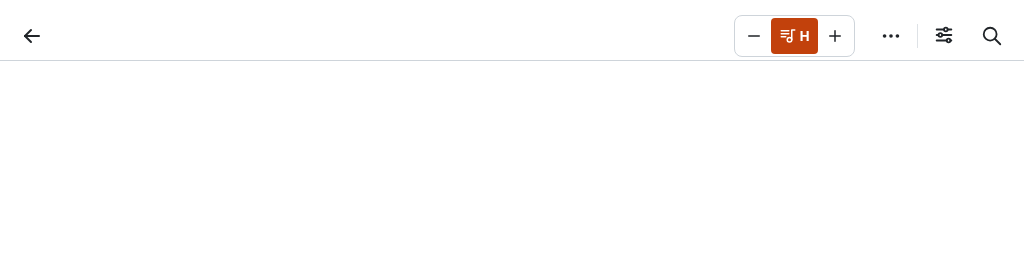
Test: SongToolbar: a key per playlist (D131) › starts from the playlist’s key: shown plainly, and the way back goes to it
Expected: the button named "H: Zpět na G" is shown, [771,18,818,54]
Click the button named "Další možnosti": (891, 36) [869,14,913,58]
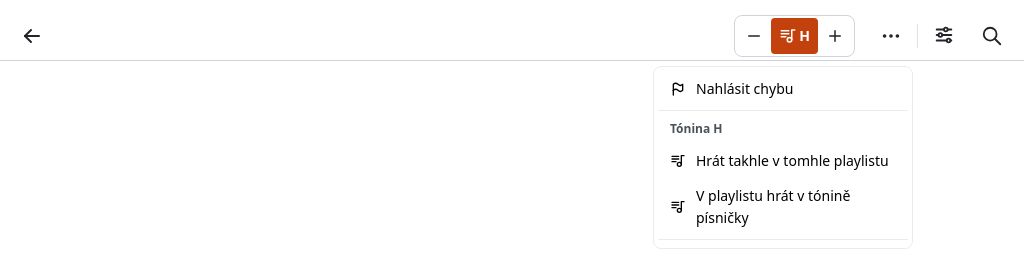
Now the text "V playlistu hrát v tónině písničky" is shown, box [696,186,850,227]
